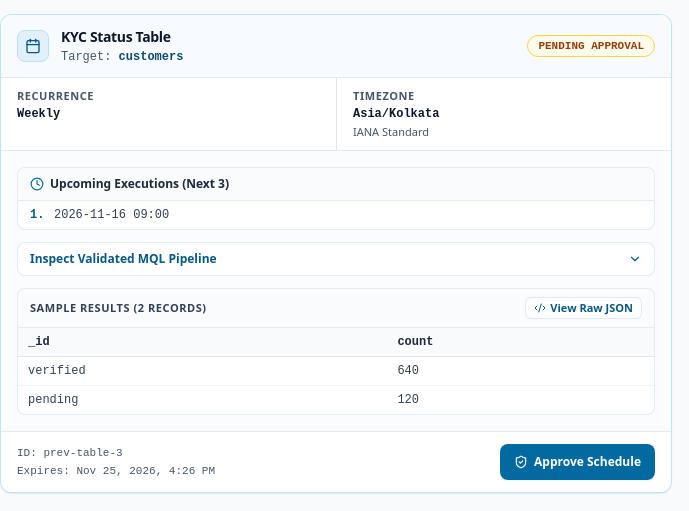
Test: FinTech Agent Frontend Chat Tests › 15. SchedulePreviewCard accurately distinguishes dry-run states, renders table, and approves safely
Later steps or results of the test are not shown.
Expected: the table is shown, [18, 328, 654, 414]
Expected: the text "verified" is shown, [18, 356, 387, 386]
Click the button "Approve Schedule". click: (578, 462)
box: [500, 444, 655, 480]
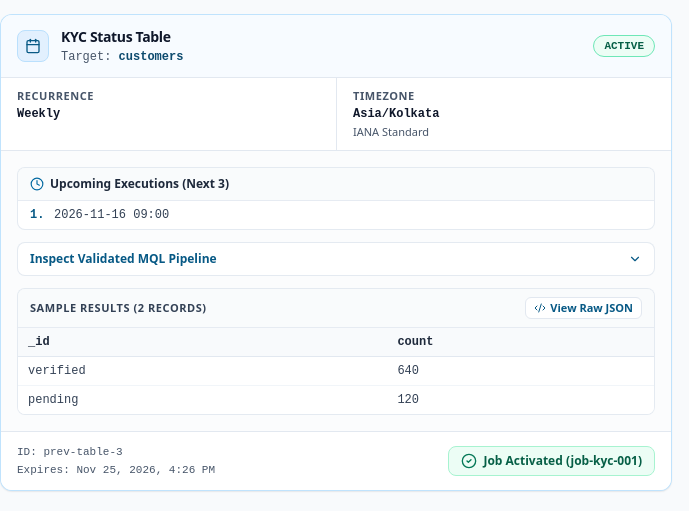
Expected: the text "Job Activated (job-kyc-001)" is shown, [483, 453, 642, 469]
